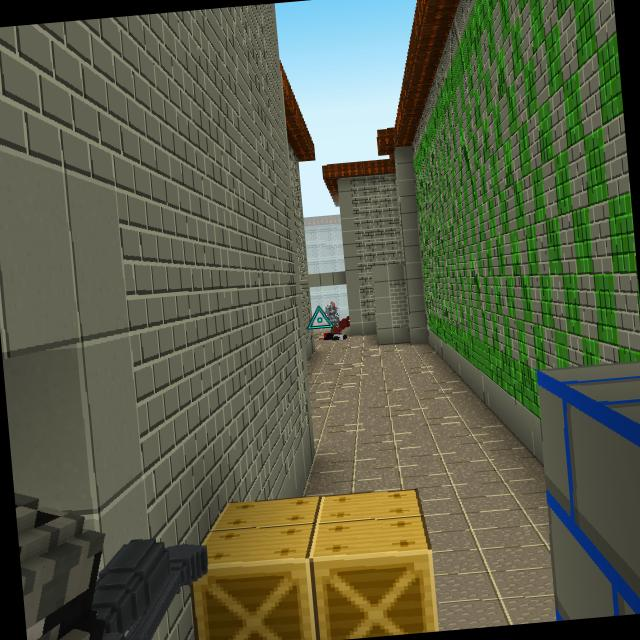enemy: (324, 300, 341, 326)
